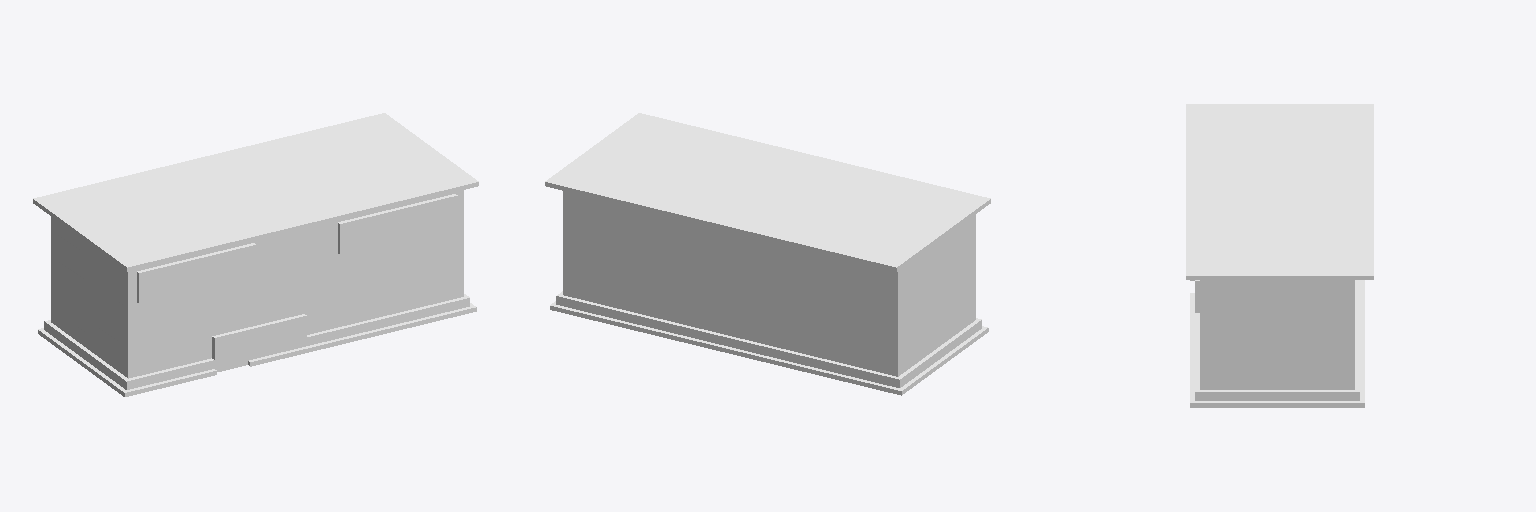
File: OakLab.obj
3 views of the same model, side by side, from view 1: azimuth 30°, elevation 25°; view 2: azimuth 150°, elevation 25°; view 3: azimuth 270°, elevation 25° (orthographic).
Parts seen in each view (by area): view 1: object 1; view 2: object 1; view 3: object 1.
Part boxes in pixels (bbox=[...]): object 1: bbox=[33, 113, 478, 396]; object 1: bbox=[545, 113, 990, 395]; object 1: bbox=[1186, 104, 1373, 407].
Size of the model in its own units: 8.4 by 3 by 3.9.